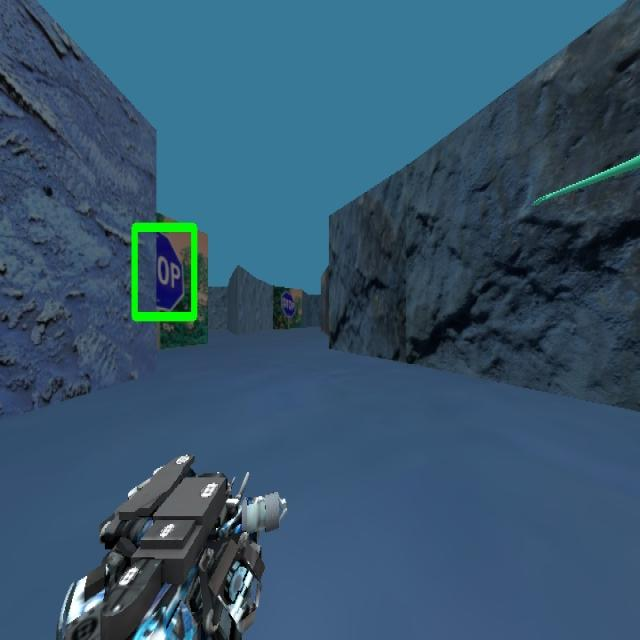Alien: (530, 152, 639, 208)
Stop_Sign: (130, 220, 198, 323)
